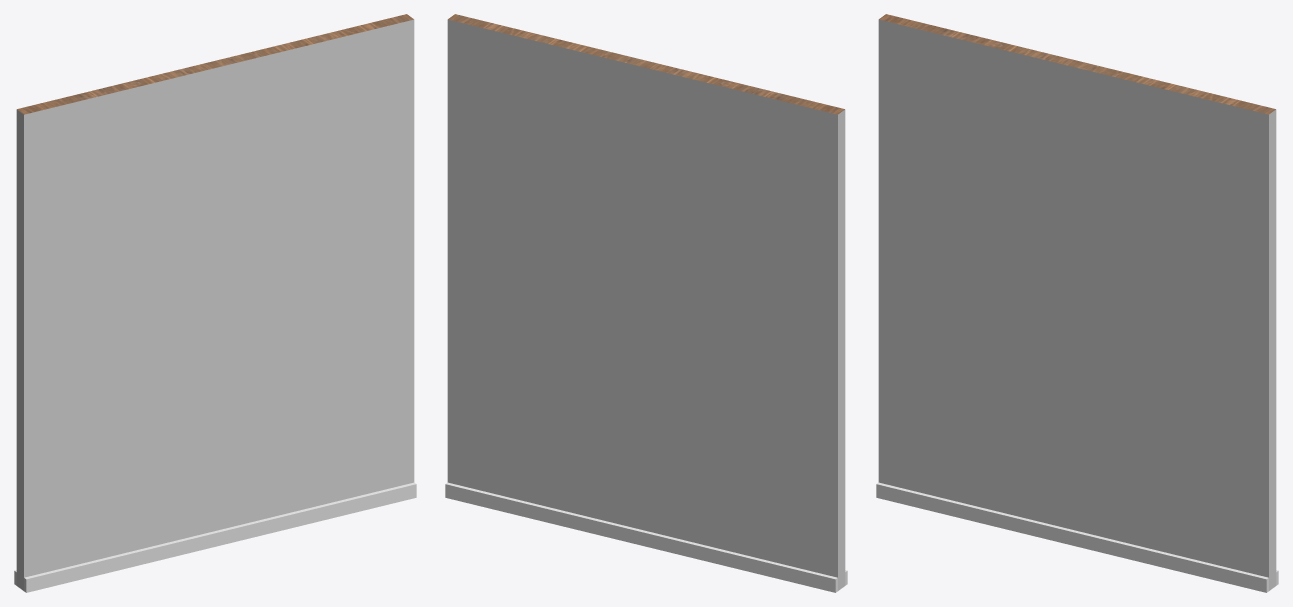
Rendered from MovieSet_DoubleWall.fbx.
3 renders of one model, left to right at view 1: azimuth 30°, elevation 25°; view 2: azimuth 150°, elevation 25°; view 3: azimuth 330°, elevation 25°, orthographic.
Parts seen in each view (by area): view 1: MovieSet_DoubleWall; view 2: MovieSet_DoubleWall; view 3: MovieSet_DoubleWall.
Boxes of the visible parts, box(x1,y1,x2,y2) form: MovieSet_DoubleWall: box(14, 14, 416, 592); MovieSet_DoubleWall: box(445, 14, 847, 592); MovieSet_DoubleWall: box(876, 14, 1278, 592).
Size of the model in its own units: 3 by 3.5 by 0.16.
